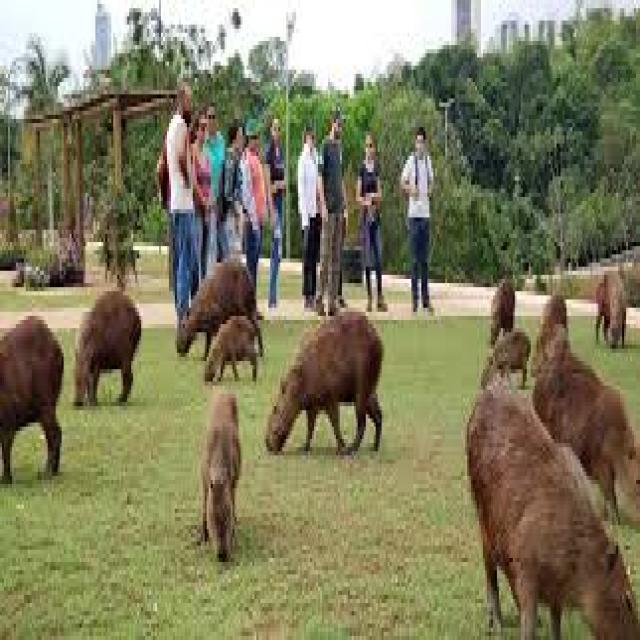capy: (464, 378, 640, 640), (264, 307, 384, 457), (535, 347, 640, 513), (0, 306, 64, 489), (73, 284, 142, 411), (177, 252, 256, 354), (197, 385, 242, 559), (204, 311, 258, 382), (594, 266, 627, 352)
